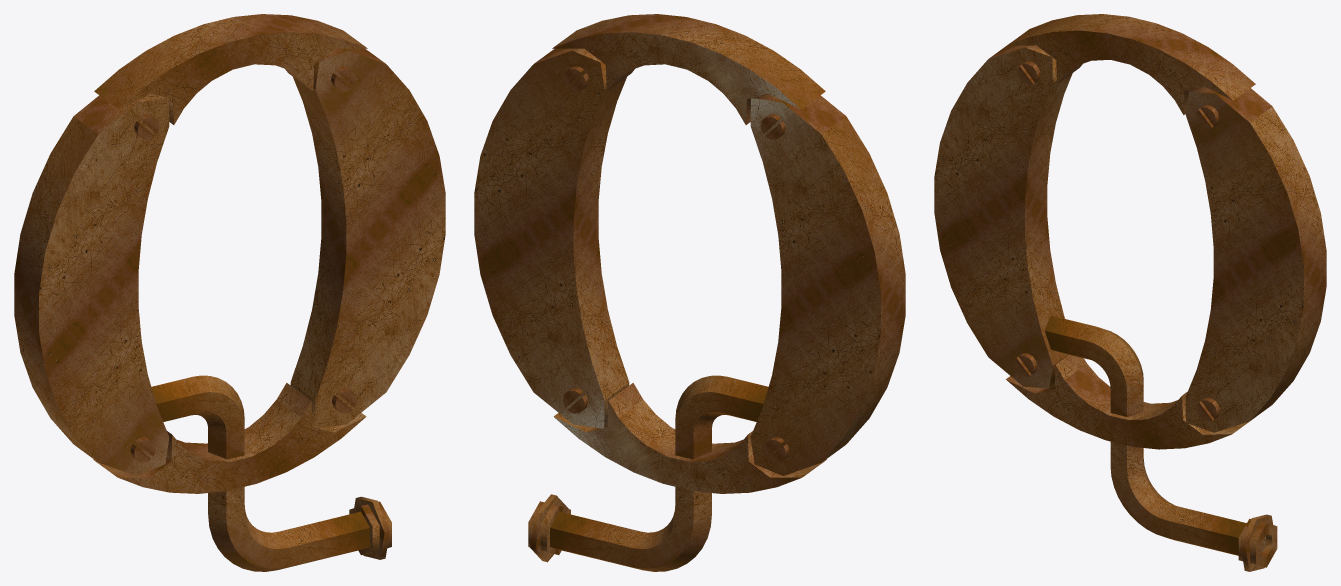
The picture shows the model from 3 angles, left to right: view 1: azimuth 30°, elevation 25°; view 2: azimuth 150°, elevation 25°; view 3: azimuth 330°, elevation 25°; orthographic projection. The views are drawn at different scales.
Parts seen in each view (by area): view 1: Q, Tube_345, Tube_346, Tube_344; view 2: Q, Tube_345, Tube_346, Tube_344; view 3: Q, Tube_345, Tube_346, Tube_344.
Boxes of the visible parts, bbox=[...] form: Q: bbox=[14, 14, 445, 493]; Tube_345: bbox=[151, 375, 369, 571]; Tube_346: bbox=[349, 501, 391, 555]; Tube_344: bbox=[354, 496, 389, 559]; Q: bbox=[474, 14, 905, 493]; Tube_345: bbox=[550, 375, 768, 571]; Tube_346: bbox=[528, 501, 570, 554]; Tube_344: bbox=[530, 494, 568, 562]; Q: bbox=[934, 14, 1326, 449]; Tube_345: bbox=[1044, 315, 1265, 555]; Tube_346: bbox=[1238, 518, 1277, 567]; Tube_344: bbox=[1240, 514, 1273, 571].
Size of the model in its own units: 94.59 by 125 by 13.39.
Materials: 1 (1 with a texture image).
